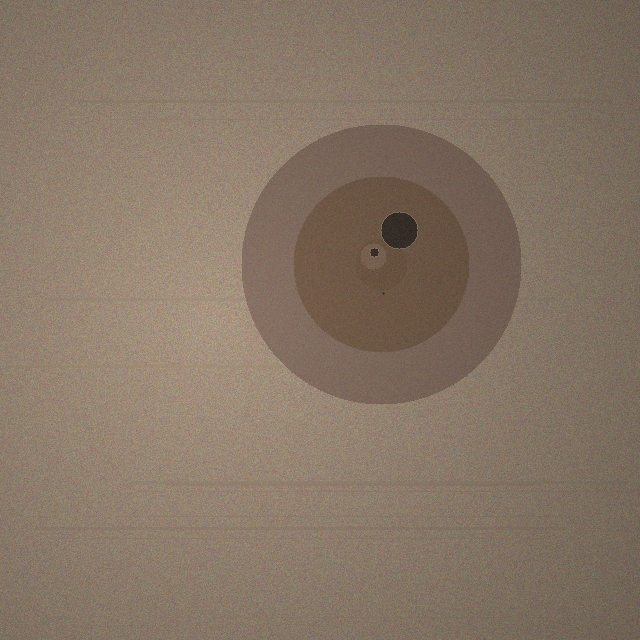shrinkage: (241, 124, 521, 404)
